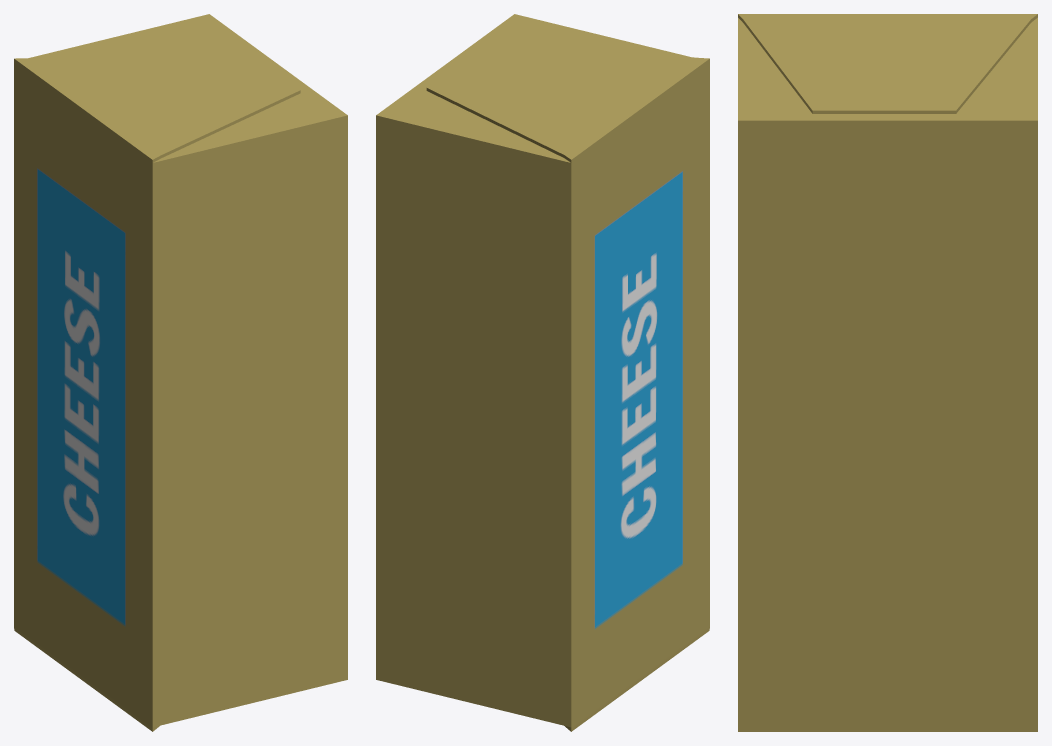
File: ButterBox.obj
The picture shows the model from 3 angles, left to right: view 1: azimuth 30°, elevation 25°; view 2: azimuth 150°, elevation 25°; view 3: azimuth 270°, elevation 25°; orthographic projection. The views are drawn at different scales.
Bounding box in the file's own units: 0.745 × 2.09 × 0.9147.
Materials: 1 (1 with a texture image).
